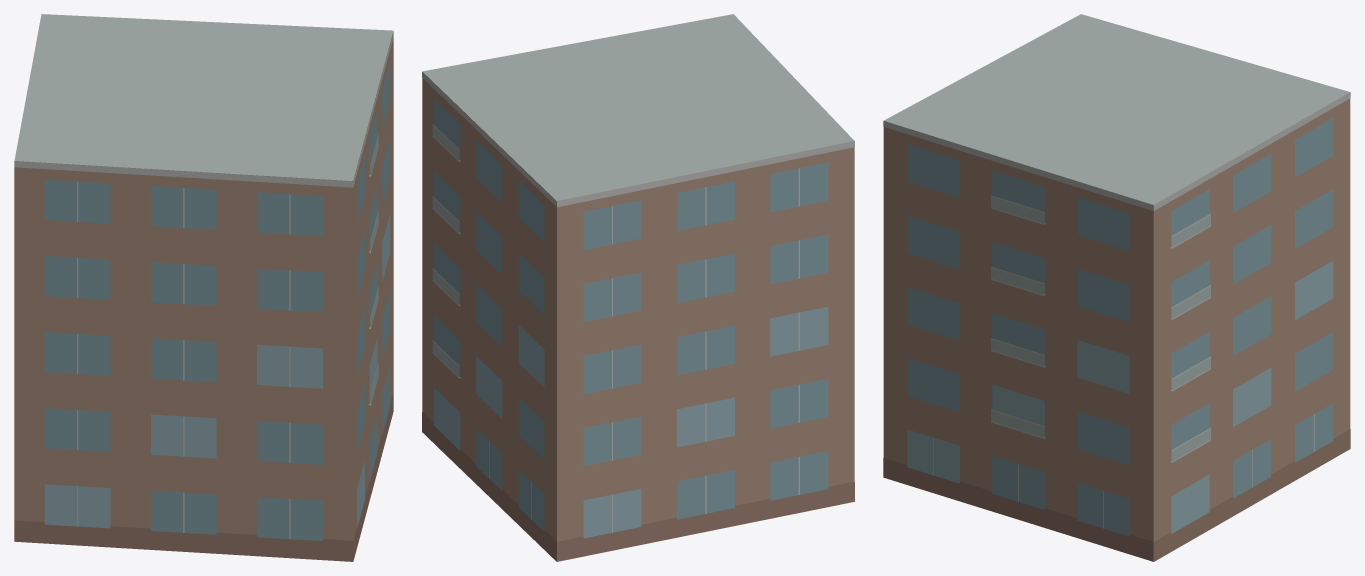
File: survey-upis-32996657.glb
3 views of the same model, side by side, from view 1: azimuth 30°, elevation 25°; view 2: azimuth 150°, elevation 25°; view 3: azimuth 270°, elevation 25° (orthographic). The views are drawn at different scales.
Visible parts, largest first — view 1: survey-upis-32996657.tmp; view 2: survey-upis-32996657.tmp; view 3: survey-upis-32996657.tmp.
Boxes of the visible parts, box(x1,y1,x2,y2) form: survey-upis-32996657.tmp: box(14, 14, 393, 561); survey-upis-32996657.tmp: box(422, 14, 854, 561); survey-upis-32996657.tmp: box(883, 14, 1350, 561).
Size of the model in its own units: 16.55 by 14.4 by 17.09.
